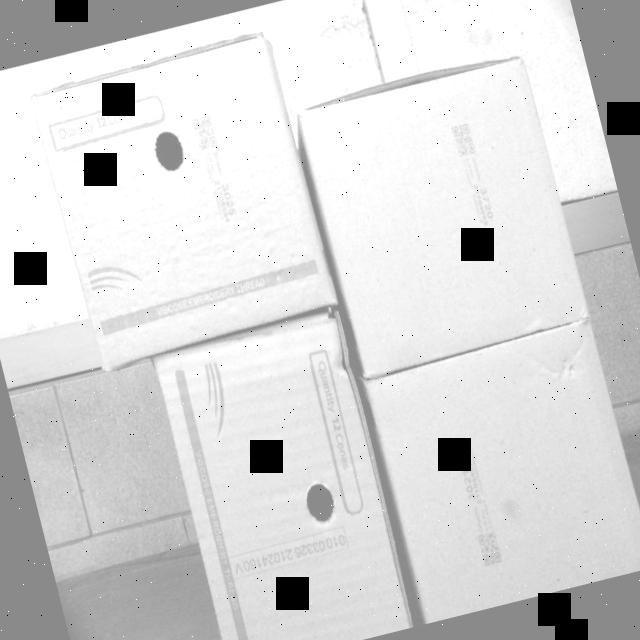box: (28, 26, 338, 370), (294, 54, 590, 373), (152, 310, 414, 640), (366, 323, 640, 622)
